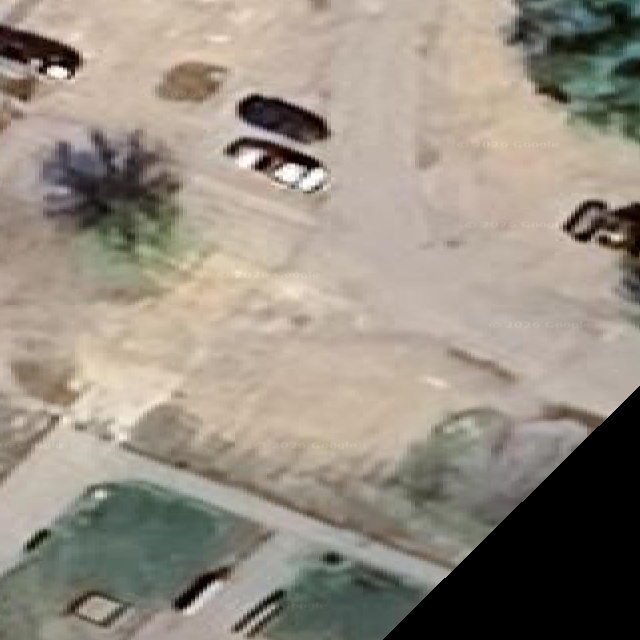car: (0, 480, 264, 639), (224, 136, 327, 192), (236, 94, 328, 143), (0, 24, 80, 77), (563, 200, 639, 255), (602, 201, 639, 256), (564, 200, 607, 240), (224, 141, 267, 169), (296, 166, 327, 192), (272, 161, 304, 186), (236, 148, 264, 167), (196, 632, 207, 636)
